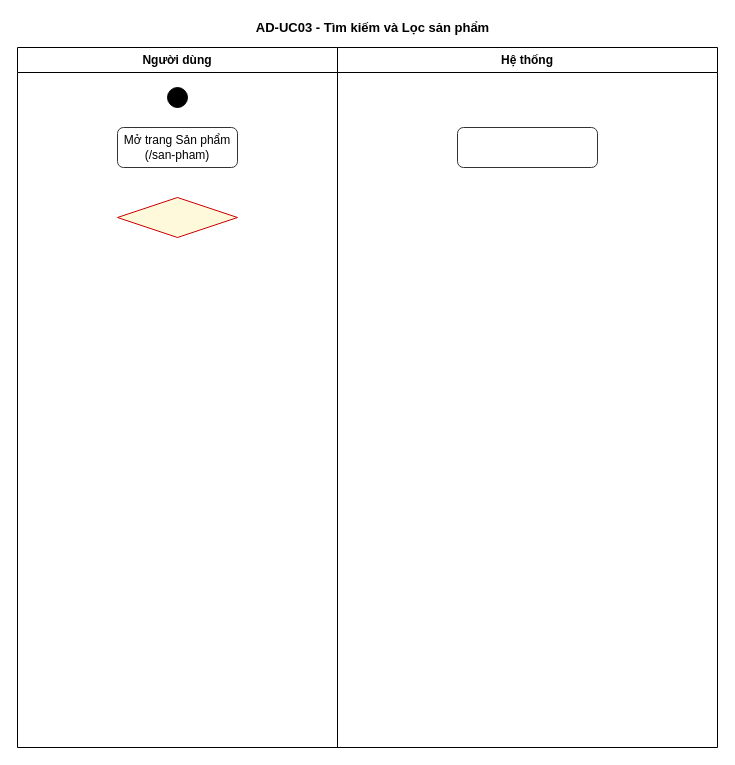
Image size: 735x765. Some labels were removed from this diagram. Each missing label, with the centre of its shape:
"Phương thức?" belongs at (x=177, y=217).
"Tải danh mục & sản phẩm mặc định" belongs at (x=527, y=147).
